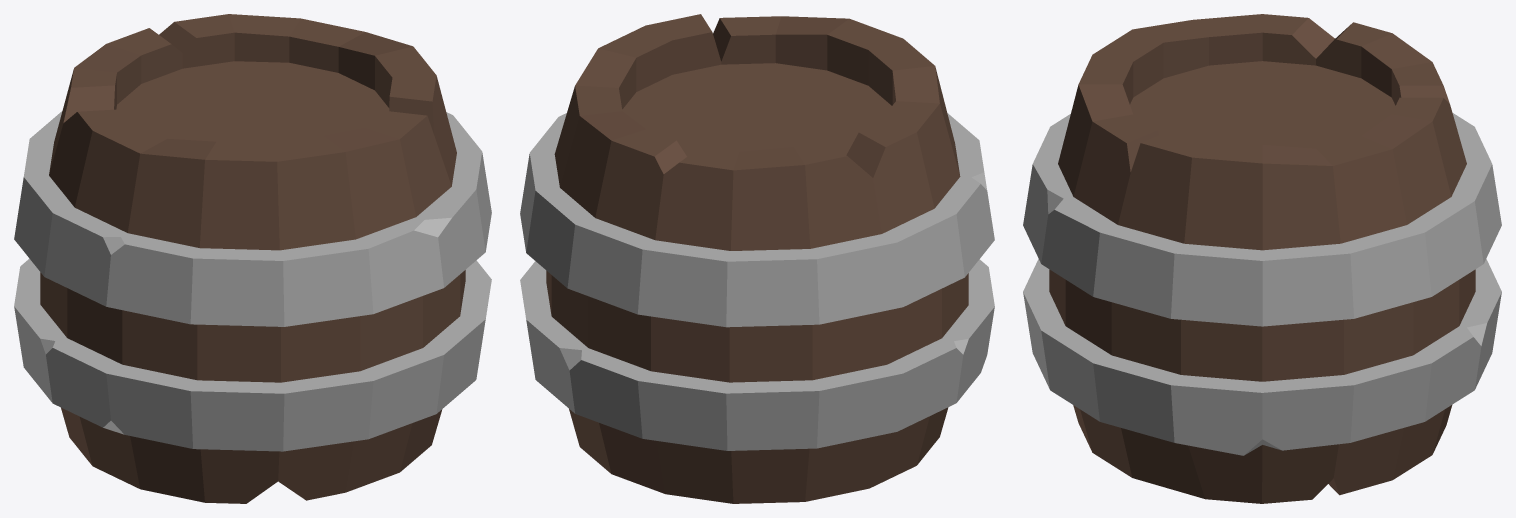
The model's file is Barrel.fbx.
The picture shows the model from 3 angles, left to right: view 1: azimuth 30°, elevation 25°; view 2: azimuth 150°, elevation 25°; view 3: azimuth 270°, elevation 25°; orthographic projection.
Visible parts, largest first — view 1: Cylinder; view 2: Cylinder; view 3: Cylinder.
Part boxes in pixels (<box>): Cylinder: <box>14,14,491,503</box>; Cylinder: <box>520,14,994,503</box>; Cylinder: <box>1023,14,1501,503</box>.
Size of the model in its own units: 262 by 206 by 260.
